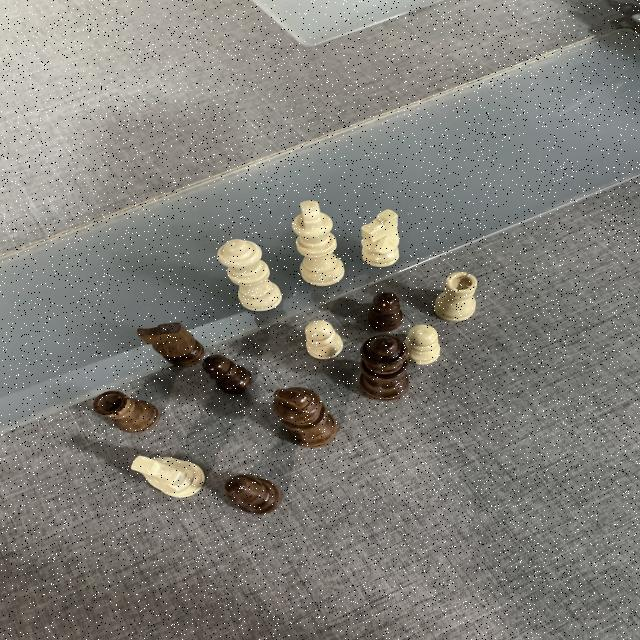Black-Bishop: (226, 474, 281, 516)
Black-King: (266, 385, 338, 445)
Black-Knight: (136, 322, 204, 366)
Black-Pawn: (200, 355, 252, 393), (370, 291, 403, 331)
Black-Queen: (359, 334, 406, 402)
Black-Rook: (91, 390, 159, 434)
White-King: (295, 200, 347, 286)
White-Knight: (128, 454, 208, 500), (359, 210, 402, 266)
White-Pawn: (406, 322, 442, 368), (305, 322, 346, 359)
White-Queen: (219, 238, 283, 310)
White-Rook: (432, 274, 482, 322)
